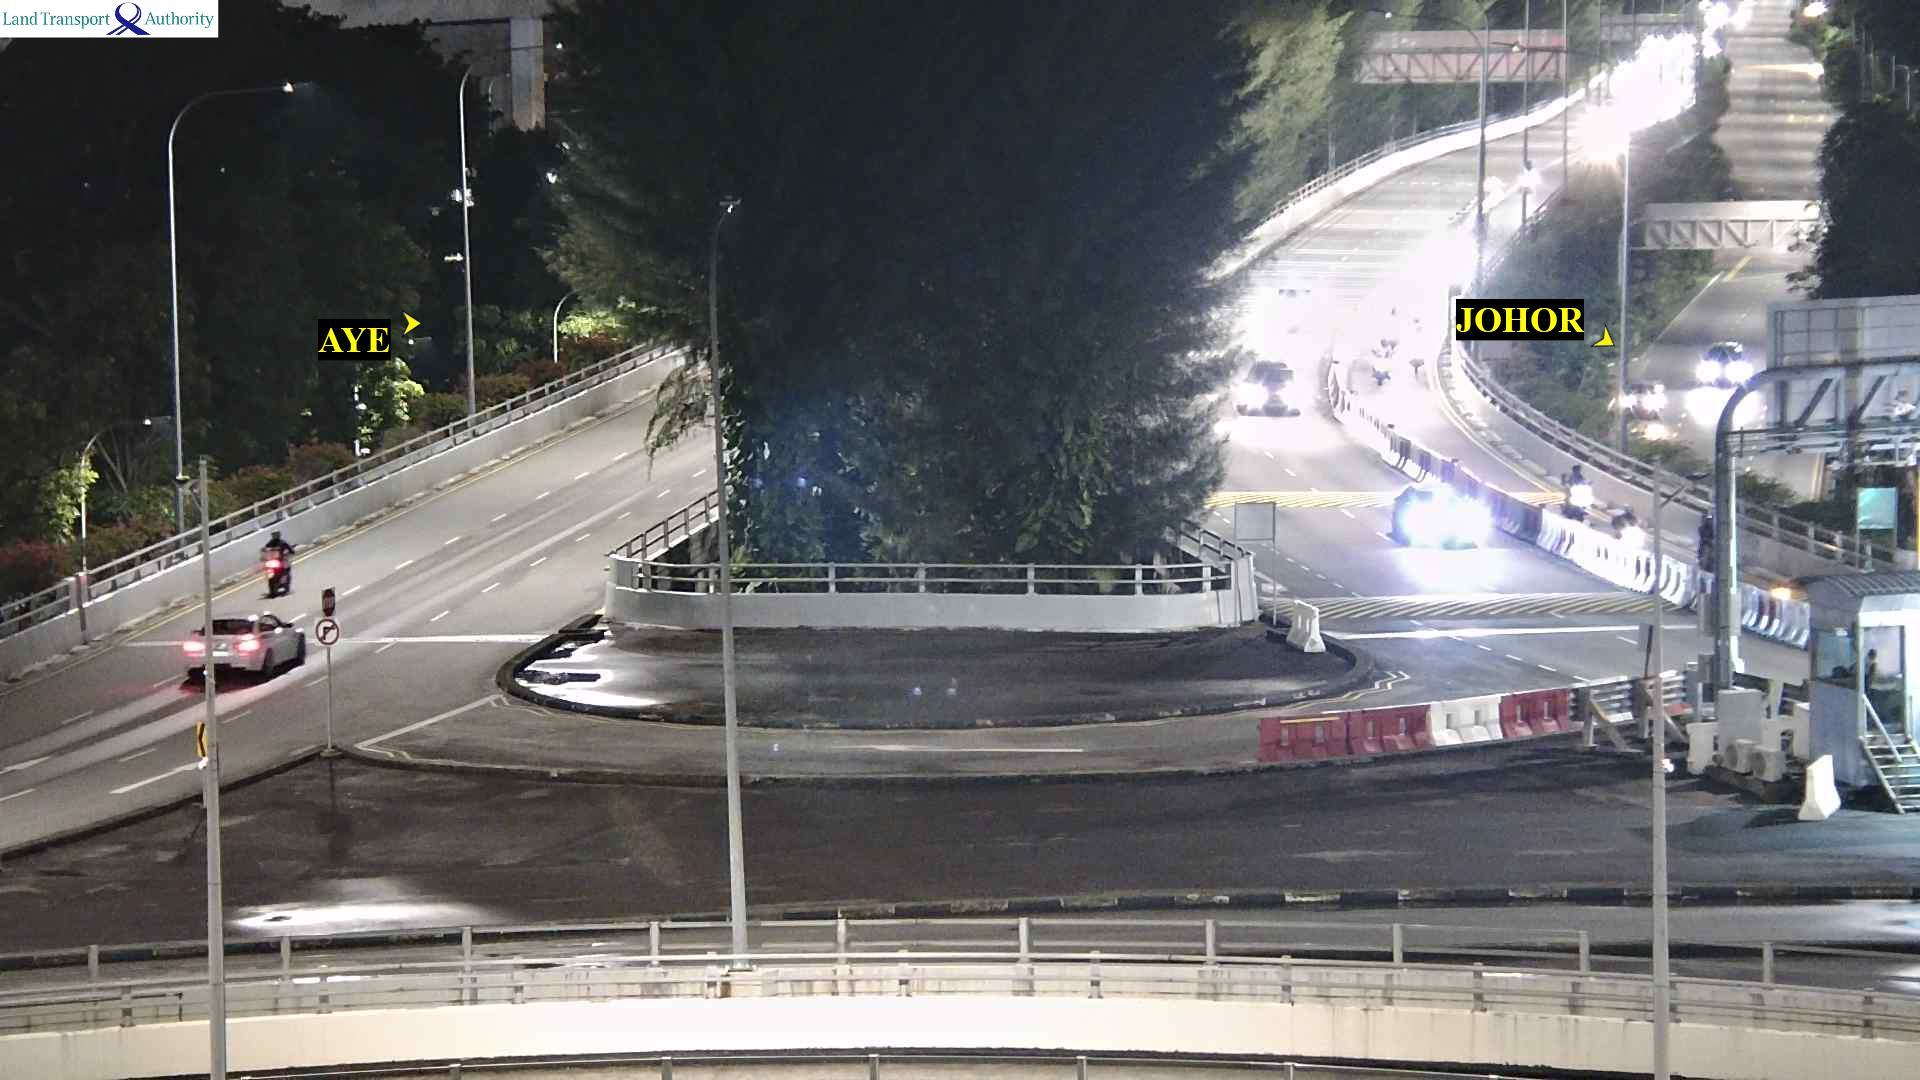vehicle-secondlink-johor: (187, 612, 301, 679), (265, 529, 291, 596)
vehicle-secondlink-singapore: (1387, 479, 1476, 560), (1230, 353, 1299, 422), (1564, 459, 1594, 517), (1369, 332, 1394, 380)
